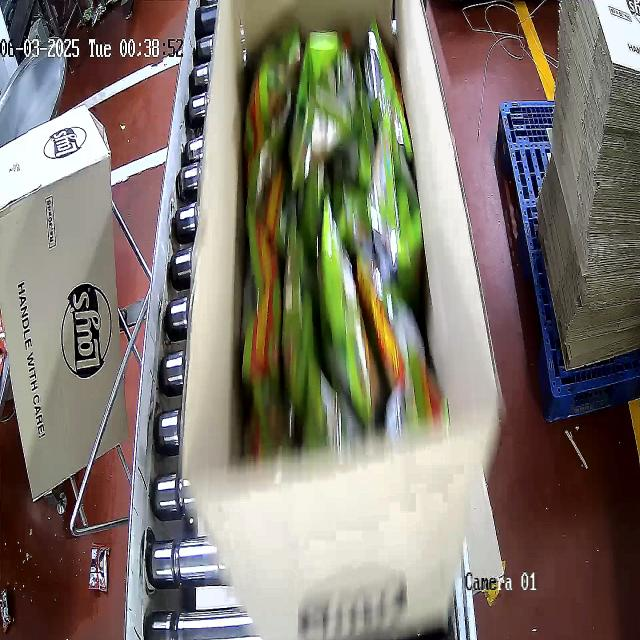YOGURT_HERB: (240, 24, 446, 476)
